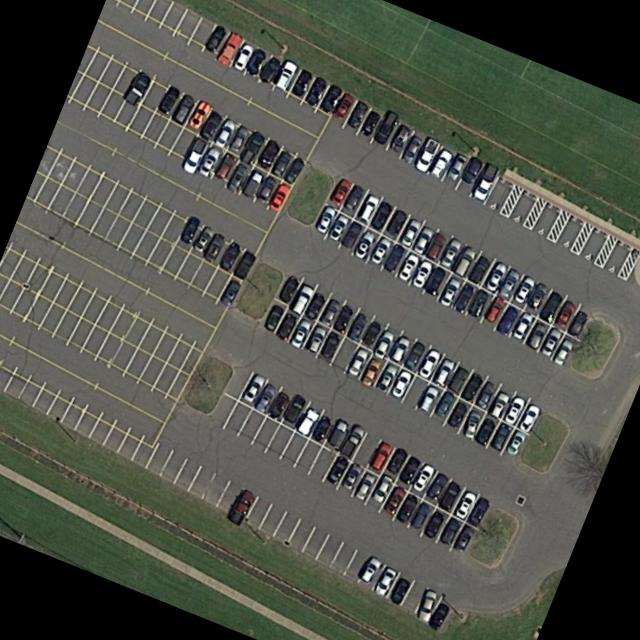small-vehicle: (471, 161, 499, 201), (226, 488, 255, 526), (180, 137, 208, 175), (122, 71, 151, 105), (371, 110, 399, 145), (215, 30, 242, 66), (413, 137, 439, 173), (238, 130, 264, 165), (338, 424, 364, 458), (482, 261, 508, 293), (416, 347, 441, 380), (451, 246, 476, 278), (351, 229, 376, 260), (410, 462, 435, 493), (372, 566, 397, 597), (186, 99, 211, 129), (255, 139, 280, 169), (394, 493, 419, 523), (355, 193, 379, 224), (437, 237, 461, 268), (451, 283, 475, 314), (212, 117, 236, 148), (241, 372, 265, 403), (253, 383, 277, 414), (368, 441, 392, 472), (374, 362, 398, 393), (197, 146, 220, 178), (371, 328, 394, 360), (428, 149, 452, 179), (481, 294, 505, 324), (537, 292, 561, 322), (466, 255, 490, 285), (437, 480, 461, 510), (466, 496, 490, 526), (201, 232, 225, 262), (382, 485, 406, 515), (431, 357, 455, 387), (289, 285, 313, 315), (396, 252, 419, 283), (437, 277, 460, 308), (289, 317, 311, 349), (422, 232, 446, 261), (494, 306, 518, 335), (459, 372, 483, 401), (539, 327, 562, 357), (510, 311, 533, 341), (400, 134, 423, 164), (171, 94, 194, 124), (303, 76, 326, 106), (325, 455, 348, 485), (232, 249, 255, 279), (517, 404, 540, 434), (511, 276, 535, 304), (421, 510, 445, 538), (443, 152, 466, 181), (381, 244, 404, 273), (368, 237, 391, 266), (198, 111, 221, 140), (231, 42, 254, 71), (157, 86, 180, 115), (313, 205, 336, 234), (318, 84, 341, 113), (329, 177, 352, 206), (266, 183, 289, 212), (281, 394, 304, 423), (416, 384, 439, 413), (402, 341, 425, 370), (389, 369, 412, 398), (411, 225, 433, 255), (497, 268, 519, 298), (225, 163, 247, 193), (416, 589, 436, 622), (502, 395, 524, 425), (295, 408, 319, 435), (459, 156, 482, 184), (525, 282, 548, 310), (258, 56, 281, 84), (346, 101, 369, 129), (331, 92, 354, 120), (288, 68, 311, 96), (424, 473, 447, 501), (266, 392, 289, 420), (340, 462, 363, 490), (384, 447, 407, 475), (217, 242, 240, 270), (218, 279, 241, 307), (274, 313, 297, 341), (398, 218, 420, 247), (369, 201, 391, 230), (466, 289, 488, 318), (274, 61, 296, 90), (388, 124, 410, 153), (241, 170, 263, 199), (453, 490, 475, 519), (309, 414, 331, 443), (326, 419, 348, 448), (397, 455, 419, 484), (474, 380, 496, 409), (410, 259, 431, 289), (423, 266, 444, 296), (371, 474, 392, 504), (276, 276, 299, 303), (342, 184, 364, 212), (244, 48, 266, 76), (281, 157, 303, 185), (270, 151, 292, 179), (551, 338, 573, 366), (358, 556, 380, 584), (353, 473, 375, 501), (303, 292, 325, 320), (331, 305, 353, 333), (346, 312, 368, 340), (346, 348, 368, 376), (525, 321, 546, 350), (487, 390, 508, 419), (359, 358, 380, 387), (213, 153, 235, 180), (255, 176, 277, 203), (566, 310, 588, 337), (427, 603, 449, 630), (489, 423, 511, 450), (262, 304, 284, 331), (203, 26, 225, 53), (461, 409, 480, 440), (228, 125, 249, 153), (554, 300, 575, 328), (438, 517, 459, 545), (452, 525, 473, 553), (179, 215, 200, 243), (191, 225, 212, 253), (446, 401, 467, 429), (340, 221, 361, 248), (327, 214, 348, 241), (409, 503, 430, 530), (433, 390, 454, 417), (473, 418, 494, 445), (319, 299, 340, 326), (388, 335, 409, 362), (385, 210, 406, 236), (360, 320, 381, 346), (389, 578, 409, 605), (358, 111, 379, 136), (505, 430, 525, 456), (306, 326, 325, 353), (321, 332, 339, 359)
